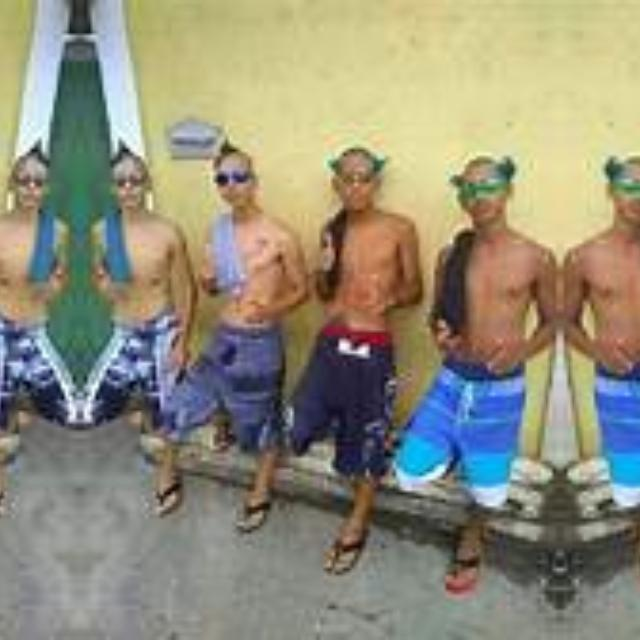person: (425, 145, 557, 510), (192, 133, 304, 517), (80, 140, 190, 480), (315, 138, 409, 502), (563, 145, 640, 510), (0, 140, 80, 480)
